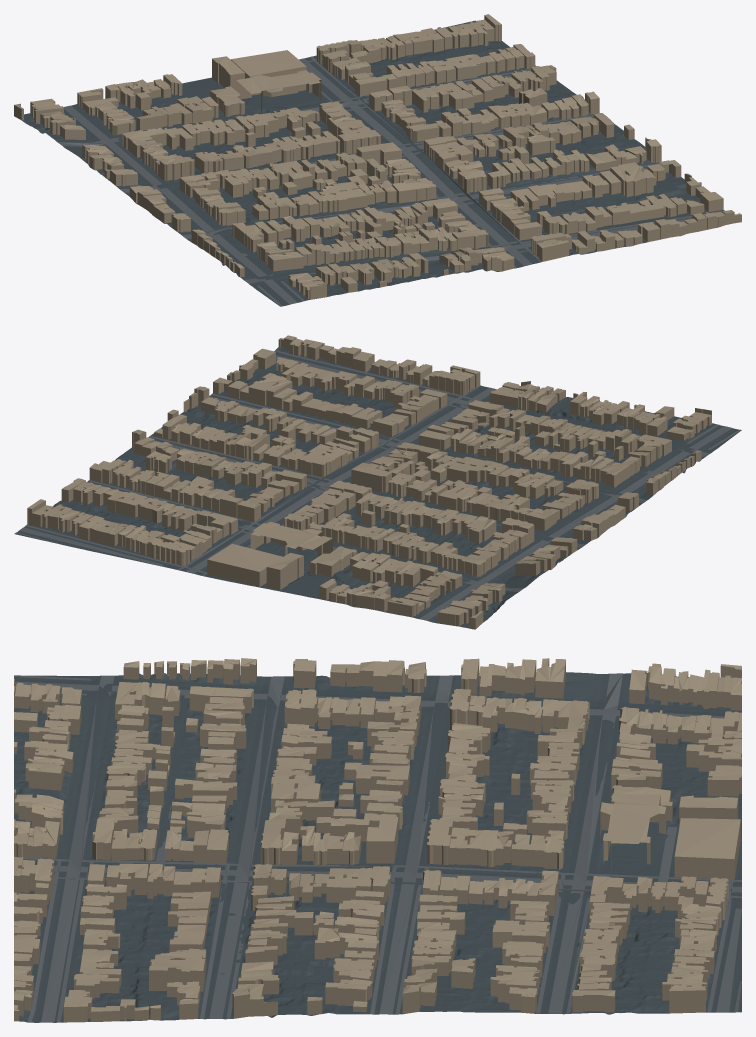
The model's file is epsg26910-1433-10879.lod0.glb.
3 renders of one model, top to bottom at view 1: azimuth 30°, elevation 25°; view 2: azimuth 150°, elevation 25°; view 3: azimuth 270°, elevation 25°, orthographic. The views are drawn at different scales.
Visible parts, largest first — view 1: epsg26910-1433-10879-lod0; view 2: epsg26910-1433-10879-lod0; view 3: epsg26910-1433-10879-lod0.
Part boxes in pixels (x1,y1,x2,y2): epsg26910-1433-10879-lod0: [14, 14, 741, 306]; epsg26910-1433-10879-lod0: [14, 335, 741, 629]; epsg26910-1433-10879-lod0: [14, 658, 741, 1022].
Bounding box in the file's own units: 384 × 34.15 × 384.
